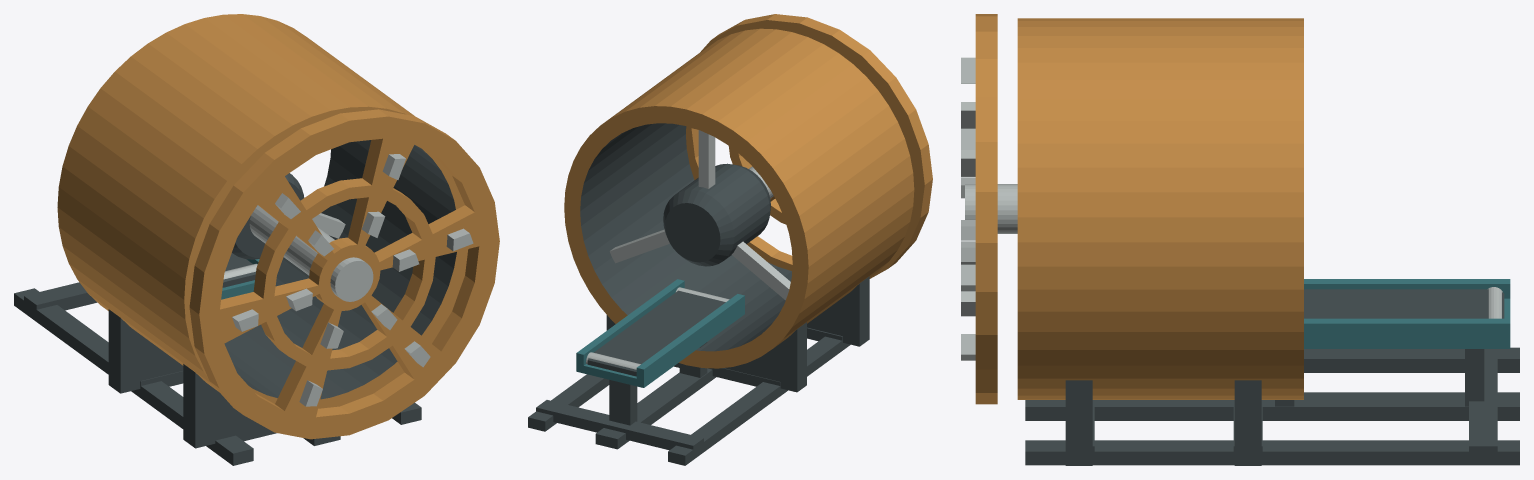
3 renders of one model, left to right at view 1: azimuth 30°, elevation 25°; view 2: azimuth 150°, elevation 25°; view 3: azimuth 270°, elevation 25°, orthographic. The views are drawn at different scales.
Visible parts, largest first — view 1: WholeDeepOpenTailShield, WholePiercedCutterhead, WholeTwinRailCarrier, WholeCurvedShellCradle0, WholeCurvedShellCradle1, WholeCentralDriveShaft, WholeRearDriveHousing, WholeContinuousTailBelt, WholeRearRadialDriveBracket2; view 2: WholeDeepOpenTailShield, WholeTwinRailCarrier, WholePiercedCutterhead, WholeRearDriveHousing, WholeRearTailConveyorBed, WholeContinuousTailBelt, WholeCurvedShellCradle1, WholeCurvedShellCradle0, WholeRearRadialDriveBracket1, WholeTailBedSupport1, WholeRearRadialDriveBracket0, WholeRearRadialDriveBracket2; view 3: WholeDeepOpenTailShield, WholeTwinRailCarrier, WholePiercedCutterhead, WholeRearTailConveyorBed, WholeContinuousTailBelt, WholeCurvedShellCradle0, WholeCurvedShellCradle1, WholeCentralDriveShaft, WholeTailBedSupport1.
Boxes of the visible parts, <box> form: WholeDeepOpenTailShield: <box>57,14,468,408</box>; WholePiercedCutterhead: <box>189,109,499,439</box>; WholeTwinRailCarrier: <box>14,282,421,465</box>; WholeCurvedShellCradle0: <box>183,364,269,448</box>; WholeCurvedShellCradle1: <box>108,309,183,393</box>; WholeCentralDriveShaft: <box>249,205,373,301</box>; WholeRearDriveHousing: <box>232,173,304,259</box>; WholeContinuousTailBelt: <box>222,253,255,287</box>; WholeRearRadialDriveBracket2: <box>312,213,345,238</box>; WholeDeepOpenTailShield: <box>564,28,914,368</box>; WholeTwinRailCarrier: <box>528,327,850,465</box>; WholePiercedCutterhead: <box>686,14,932,278</box>; WholeRearDriveHousing: <box>663,163,770,266</box>; WholeRearTailConveyorBed: <box>576,279,744,387</box>; WholeContinuousTailBelt: <box>587,290,725,376</box>; WholeCurvedShellCradle1: <box>606,315,806,392</box>; WholeCurvedShellCradle0: <box>807,276,869,346</box>; WholeRearRadialDriveBracket1: <box>731,241,790,300</box>; WholeTailBedSupport1: <box>609,380,637,425</box>; WholeRearRadialDriveBracket0: <box>698,130,715,188</box>; WholeRearRadialDriveBracket2: <box>609,229,669,263</box>; WholeDeepOpenTailShield: <box>1017,18,1303,399</box>; WholeTwinRailCarrier: <box>1025,347,1519,465</box>; WholePiercedCutterhead: <box>975,14,997,404</box>; WholeRearTailConveyorBed: <box>1304,279,1510,348</box>; WholeContinuousTailBelt: <box>1304,289,1504,318</box>; WholeCurvedShellCradle0: <box>1065,380,1092,465</box>; WholeCurvedShellCradle1: <box>1234,380,1261,465</box>; WholeCentralDriveShaft: <box>965,184,1017,233</box>; WholeTailBedSupport1: <box>1465,349,1484,406</box>.
Bounding box in the file's own units: 4.08 × 4.39 × 5.82.
